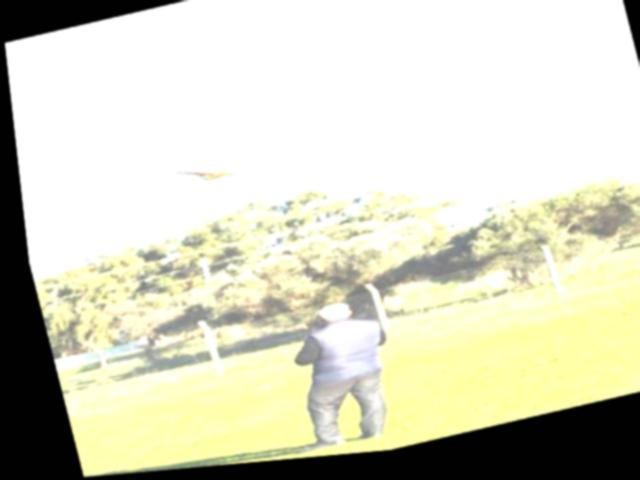iha: (162, 150, 251, 202)
